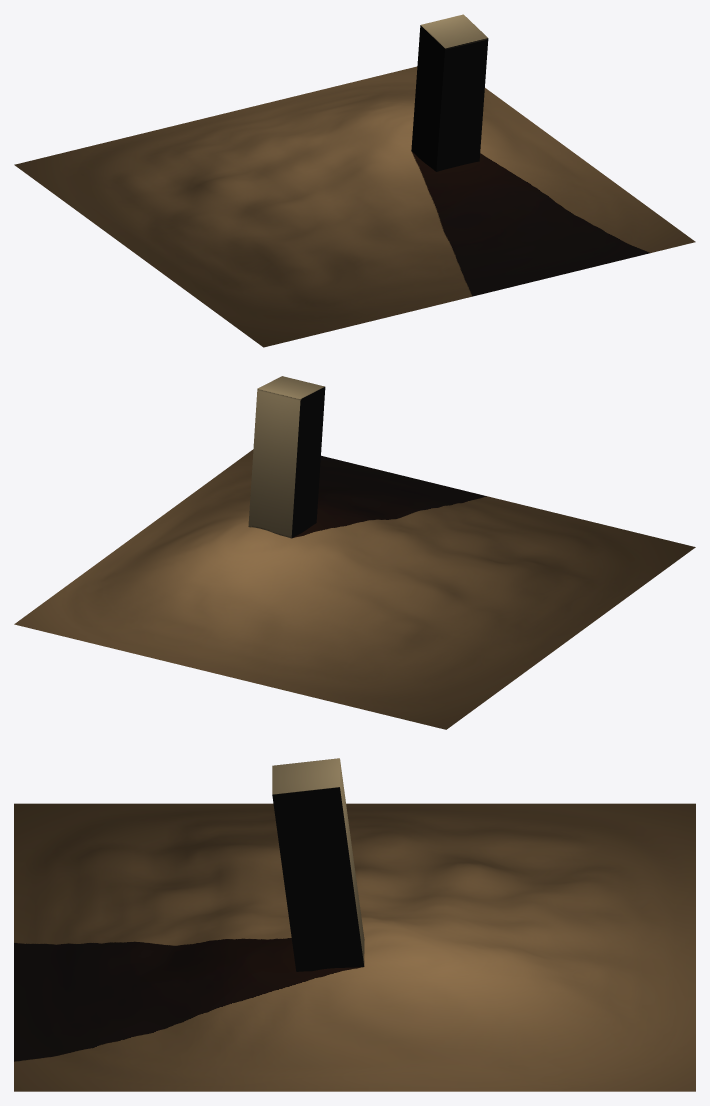
The model's file is landscape.dae.
3 views of the same model, one above another, from view 1: azimuth 30°, elevation 25°; view 2: azimuth 150°, elevation 25°; view 3: azimuth 270°, elevation 25° (orthographic). The views are drawn at different scales.
Parts seen in each view (by area): view 1: Landscape, Tower; view 2: Landscape, Tower; view 3: Landscape, Tower.
Boxes of the visible parts, x1,y1,x2,y2 form: Landscape: [14, 66, 695, 347]; Tower: [411, 14, 488, 171]; Landscape: [14, 449, 695, 729]; Tower: [248, 376, 325, 538]; Landscape: [14, 803, 695, 1091]; Tower: [272, 758, 364, 971].
Size of the model in its own units: 20 by 20 by 7.42.
Materials: 2 (2 with a texture image).
